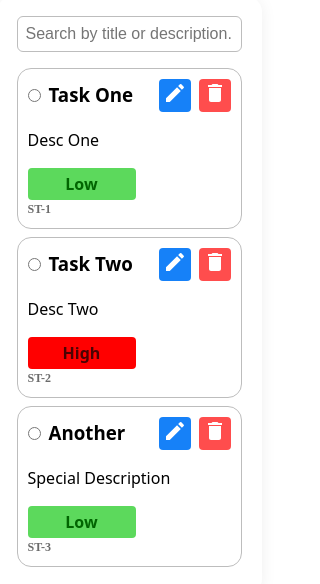
Test case: TaskList › filters tasks by search input (title)
In the field with placeholder "Search by title or description...": (129, 34) [16,16,242,52], type "Another"
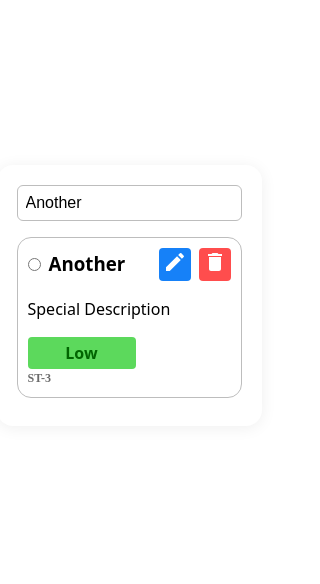
Expected: the heading "Another" is shown, [48,252,125,276]
Result: the heading "Task One" is gone
Result: the heading "Task Two" is gone
